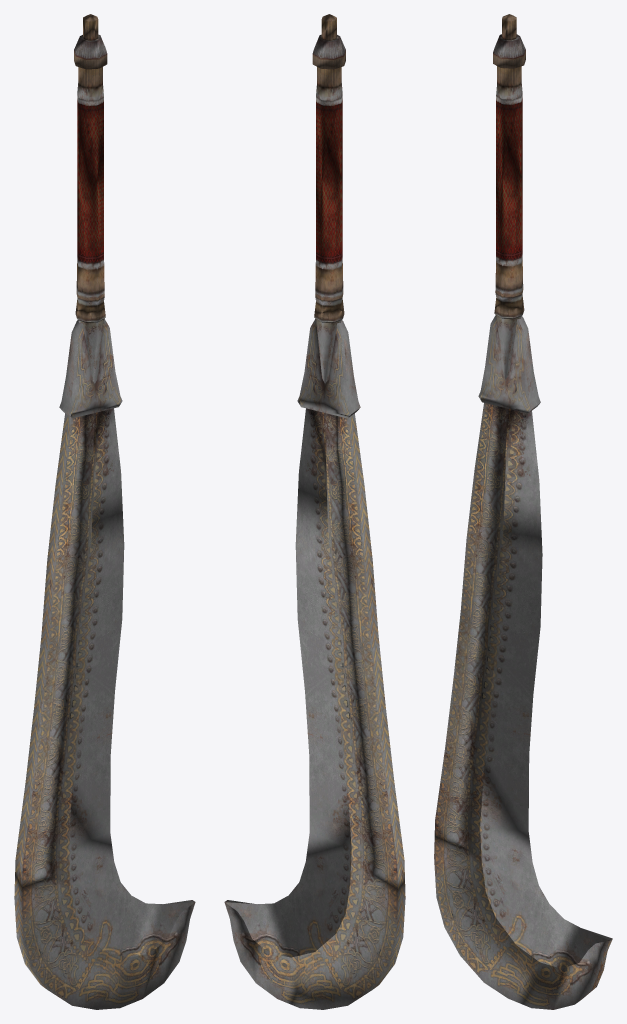
3 views of the same model, side by side, from view 1: azimuth 30°, elevation 25°; view 2: azimuth 150°, elevation 25°; view 3: azimuth 330°, elevation 25° (orthographic).
Parts seen in each view (by area): view 1: mesh0; view 2: mesh0; view 3: mesh0.
Part boxes in pixels (x1,y1,x2,y2): mesh0: (14,14,195,1009); mesh0: (224,14,405,1009); mesh0: (434,14,612,1009).
Size of the model in its own units: 28.13 by 152 by 4.79.
